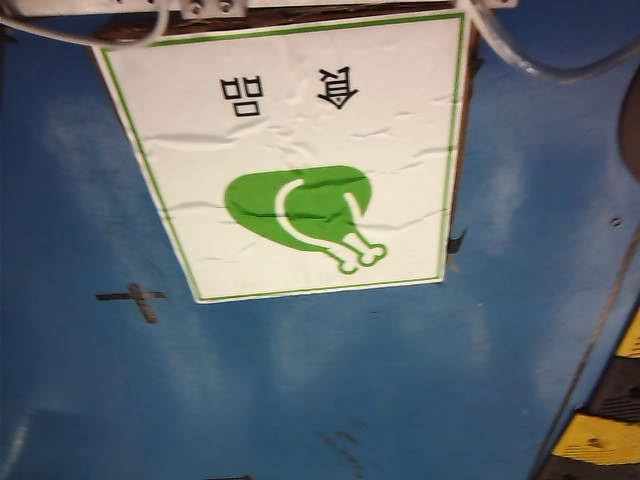Cube_food: (212, 42, 426, 282)
